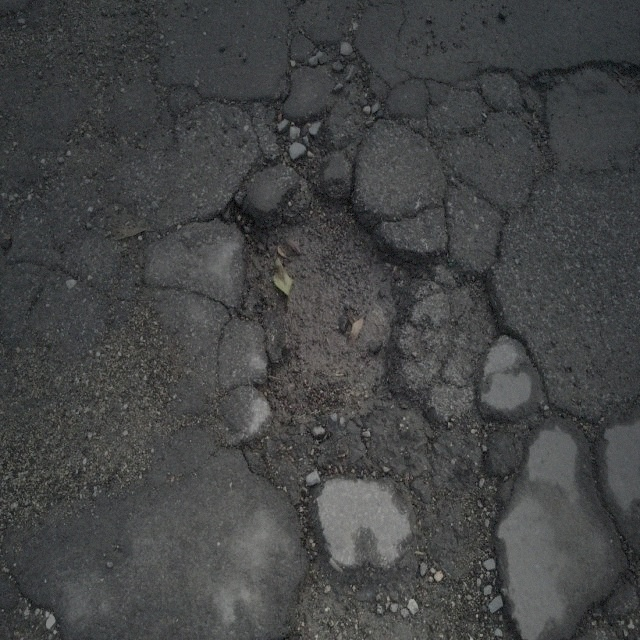pothole: (226, 151, 515, 548)
